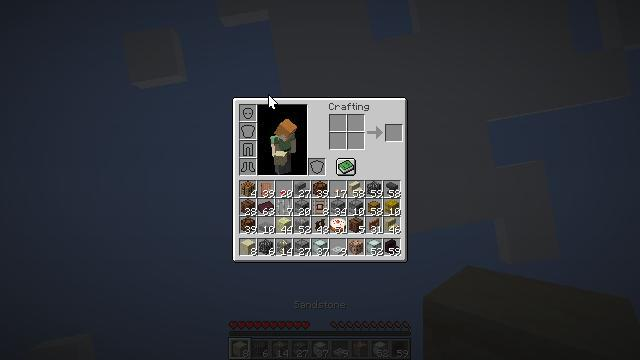cursor: (268, 94, 278, 110)
